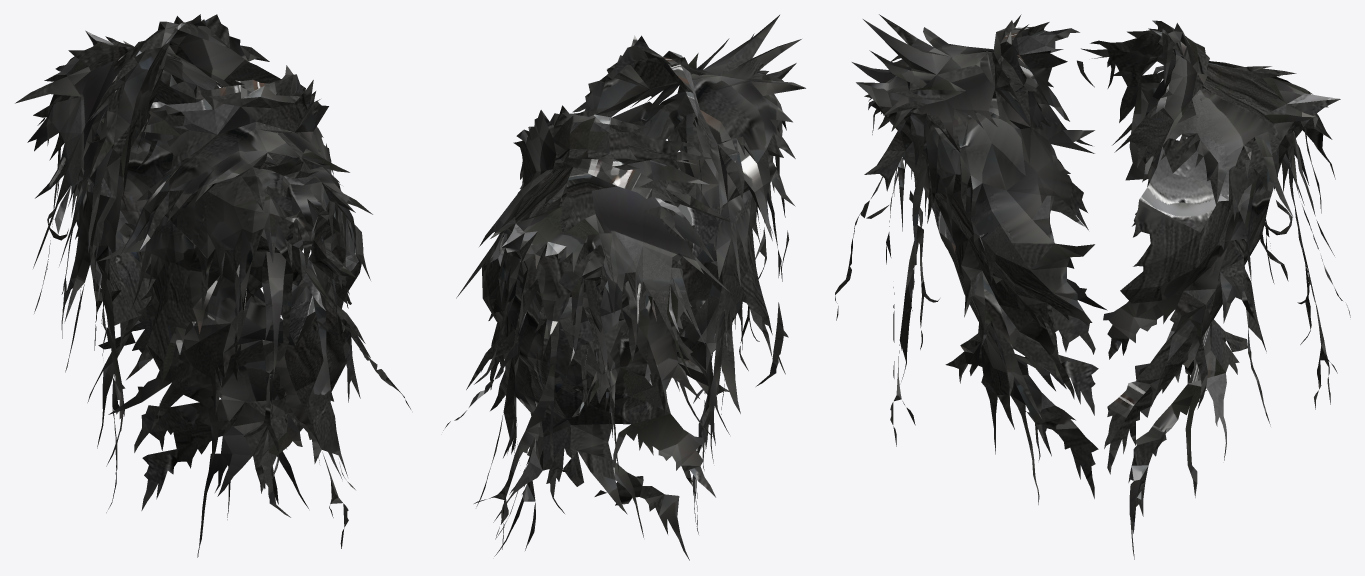
The model's file is cracked_heart.obj.
3 views of the same model, side by side, from view 1: azimuth 30°, elevation 25°; view 2: azimuth 150°, elevation 25°; view 3: azimuth 270°, elevation 25° (orthographic). The views are drawn at different scales.
Size of the model in its own units: 2 by 4 by 3.81.
